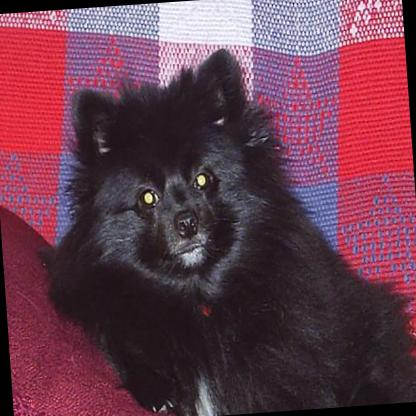Pomeranian: (24, 35, 416, 416)
